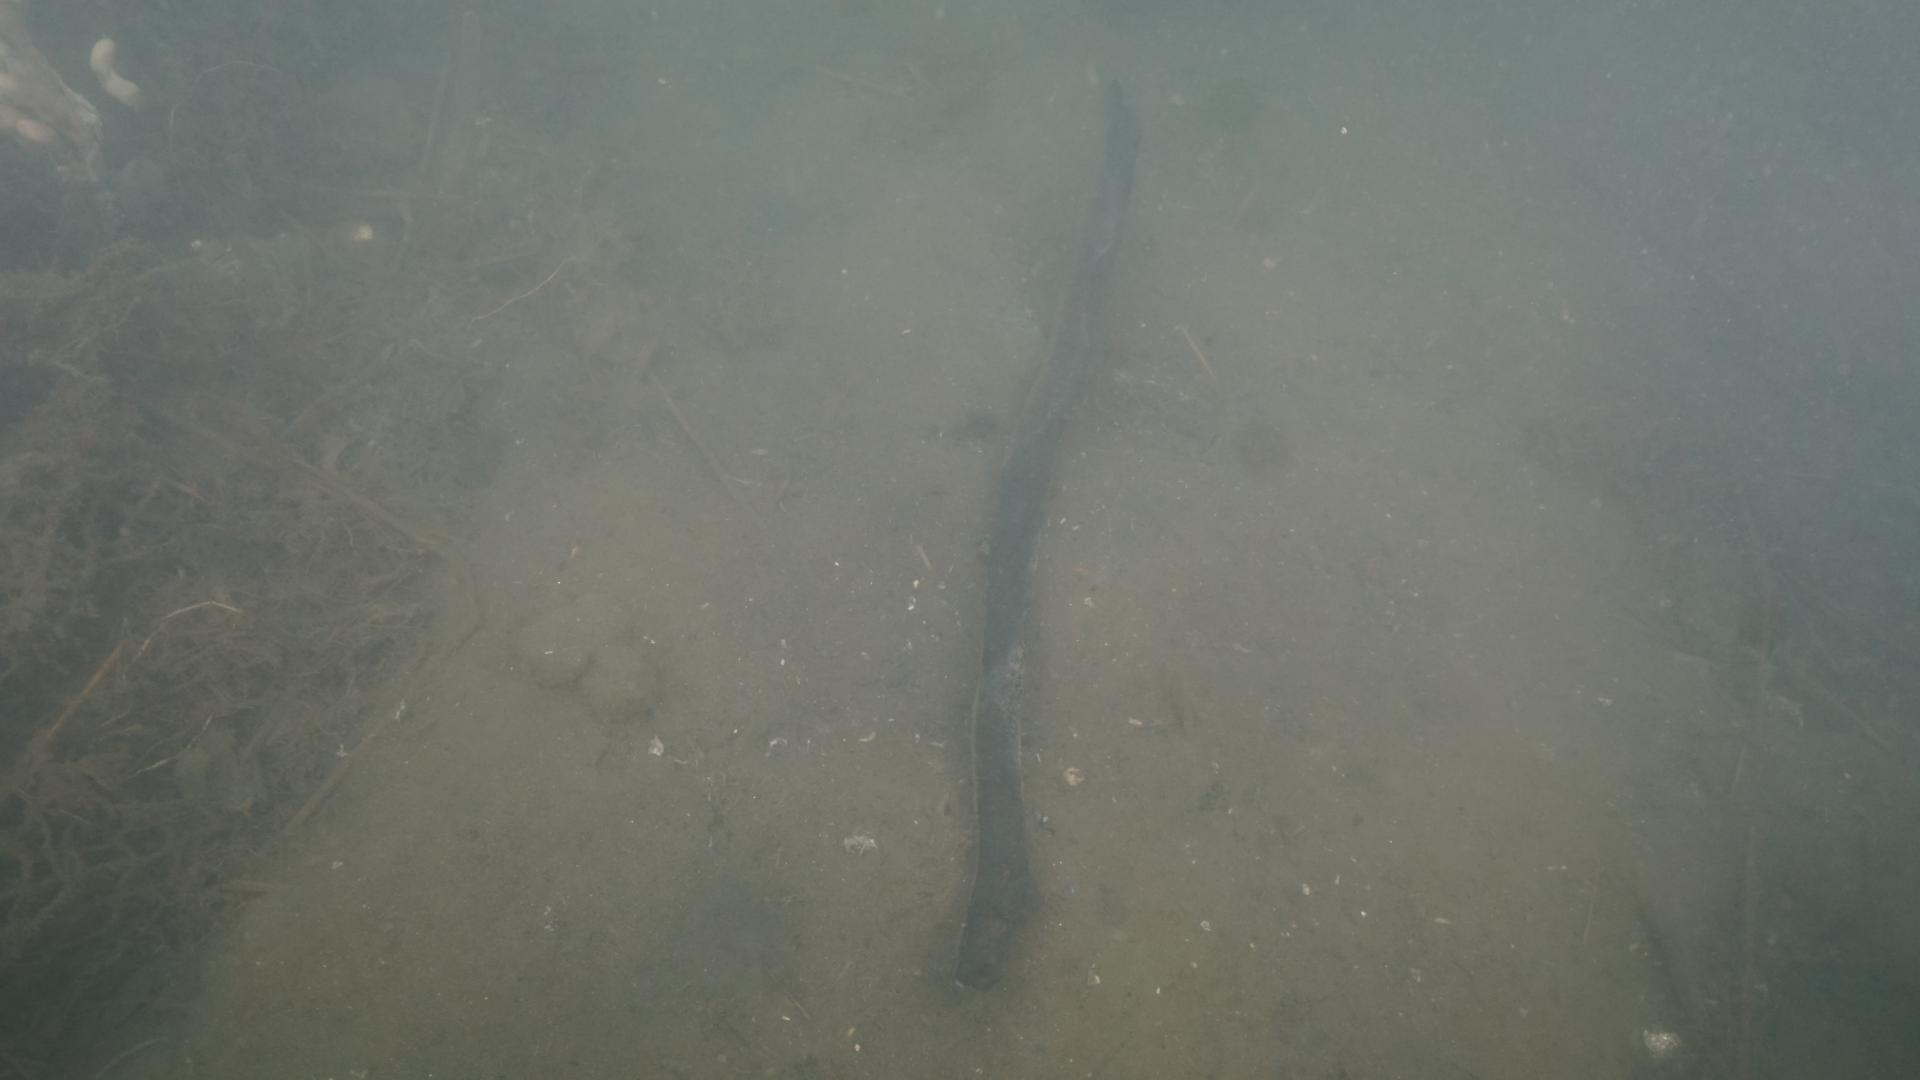wood: (952, 83, 1141, 996)
